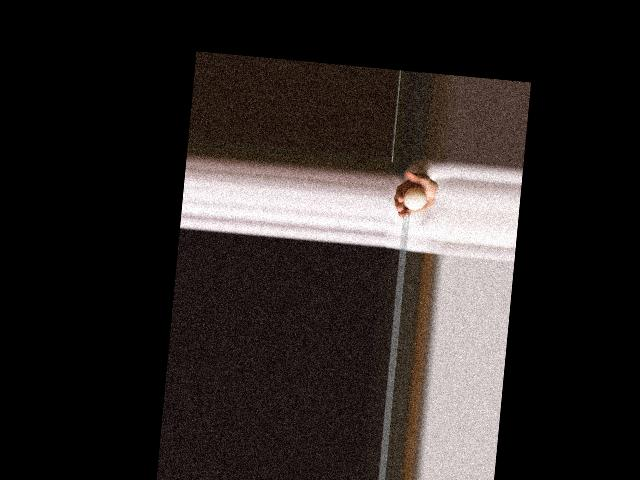egg: (401, 186, 427, 211)
